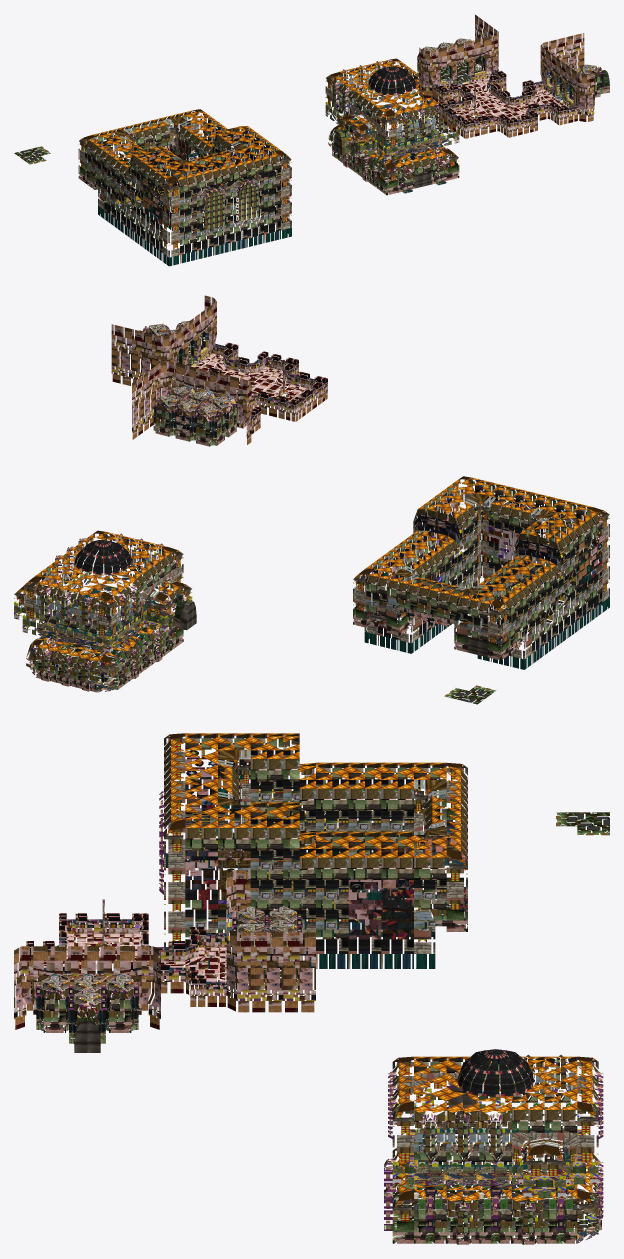
The picture shows the model from 3 angles, top to bottom: view 1: azimuth 30°, elevation 25°; view 2: azimuth 150°, elevation 25°; view 3: azimuth 270°, elevation 25°; orthographic projection. The views are drawn at different scales.
Parts seen in each view (by area): view 1: T1L2M002_504, T1L2M002_377, T1L2M002_379, T1L2M002_469, T1L2M002_476, T1L2M002_378, T1L2M002_210, T1L2M002_219, T1L2M002_484, T1L2M002_380, T1L2M002_494, T1L2M002_501 (+9 smaller); view 2: T1L2M002_469, T1L2M002_377, T1L2M002_358, T1L2M002_468, T1L2M002_300, T1L2M002_301, T1L2M002_379, T1L2M002_52, T1L2M002_378, T1L2M002_494, T1L2M002_338, T1L2M002_381 (+9 smaller); view 3: T1L2M002_338, T1L2M002_303, T1L2M002_476, T1L2M002_381, T1L2M002_406, T1L2M002_199, T1L2M002_246, T1L2M002_504, T1L2M002_494, T1L2M002_484, T1L2M002_294, T1L2M002_282 (+60 smaller).
Part boxes in pixels (box(x1,y1,x2,y2)): T1L2M002_504: box(576, 72, 594, 121); T1L2M002_377: box(423, 47, 448, 99); T1L2M002_379: box(457, 39, 482, 85); T1L2M002_469: box(567, 33, 584, 74); T1L2M002_476: box(537, 46, 561, 94); T1L2M002_378: box(440, 43, 465, 89); T1L2M002_210: box(393, 158, 414, 193); T1L2M002_219: box(429, 150, 448, 185); T1L2M002_484: box(546, 53, 571, 101); T1L2M002_380: box(474, 36, 497, 81); T1L2M002_494: box(556, 60, 581, 107); T1L2M002_501: box(550, 101, 573, 125); T1L2M002_469: box(111, 324, 131, 385); T1L2M002_377: box(221, 376, 251, 436); T1L2M002_358: box(488, 519, 508, 565); T1L2M002_468: box(132, 329, 151, 390); T1L2M002_300: box(182, 403, 208, 444); T1L2M002_301: box(162, 398, 188, 439); T1L2M002_379: box(181, 366, 210, 425); T1L2M002_52: box(86, 544, 132, 582); T1L2M002_378: box(201, 371, 229, 430); T1L2M002_494: box(179, 310, 209, 368); T1L2M002_338: box(143, 366, 155, 431); T1L2M002_381: box(155, 361, 175, 419); T1L2M002_338: box(250, 932, 283, 1012); T1L2M002_303: box(283, 932, 315, 1012); T1L2M002_476: box(120, 946, 160, 1029); T1L2M002_381: box(226, 929, 250, 1012); T1L2M002_406: box(185, 850, 217, 909); T1L2M002_199: box(381, 880, 413, 939); T1L2M002_246: box(348, 880, 381, 939); T1L2M002_504: box(14, 946, 33, 1029); T1L2M002_494: box(54, 946, 87, 1025); T1L2M002_484: box(87, 946, 119, 1025); T1L2M002_294: box(283, 820, 315, 879); T1L2M002_282: box(283, 751, 315, 810).
Bounding box in the file's own units: 104 × 41.31 × 73.
